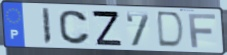7: (125, 10, 152, 48)
C: (57, 9, 92, 46)
D: (157, 10, 187, 50)
F: (187, 13, 218, 50)
I: (40, 7, 52, 46)
Z: (90, 9, 124, 47)
